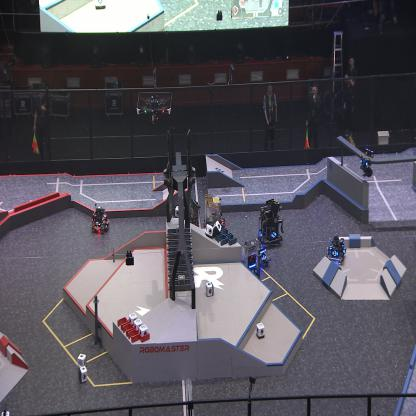car: (256, 197, 283, 249), (238, 236, 262, 281), (202, 192, 228, 233), (178, 197, 201, 238), (325, 232, 347, 264), (90, 204, 110, 232), (254, 239, 271, 269)
